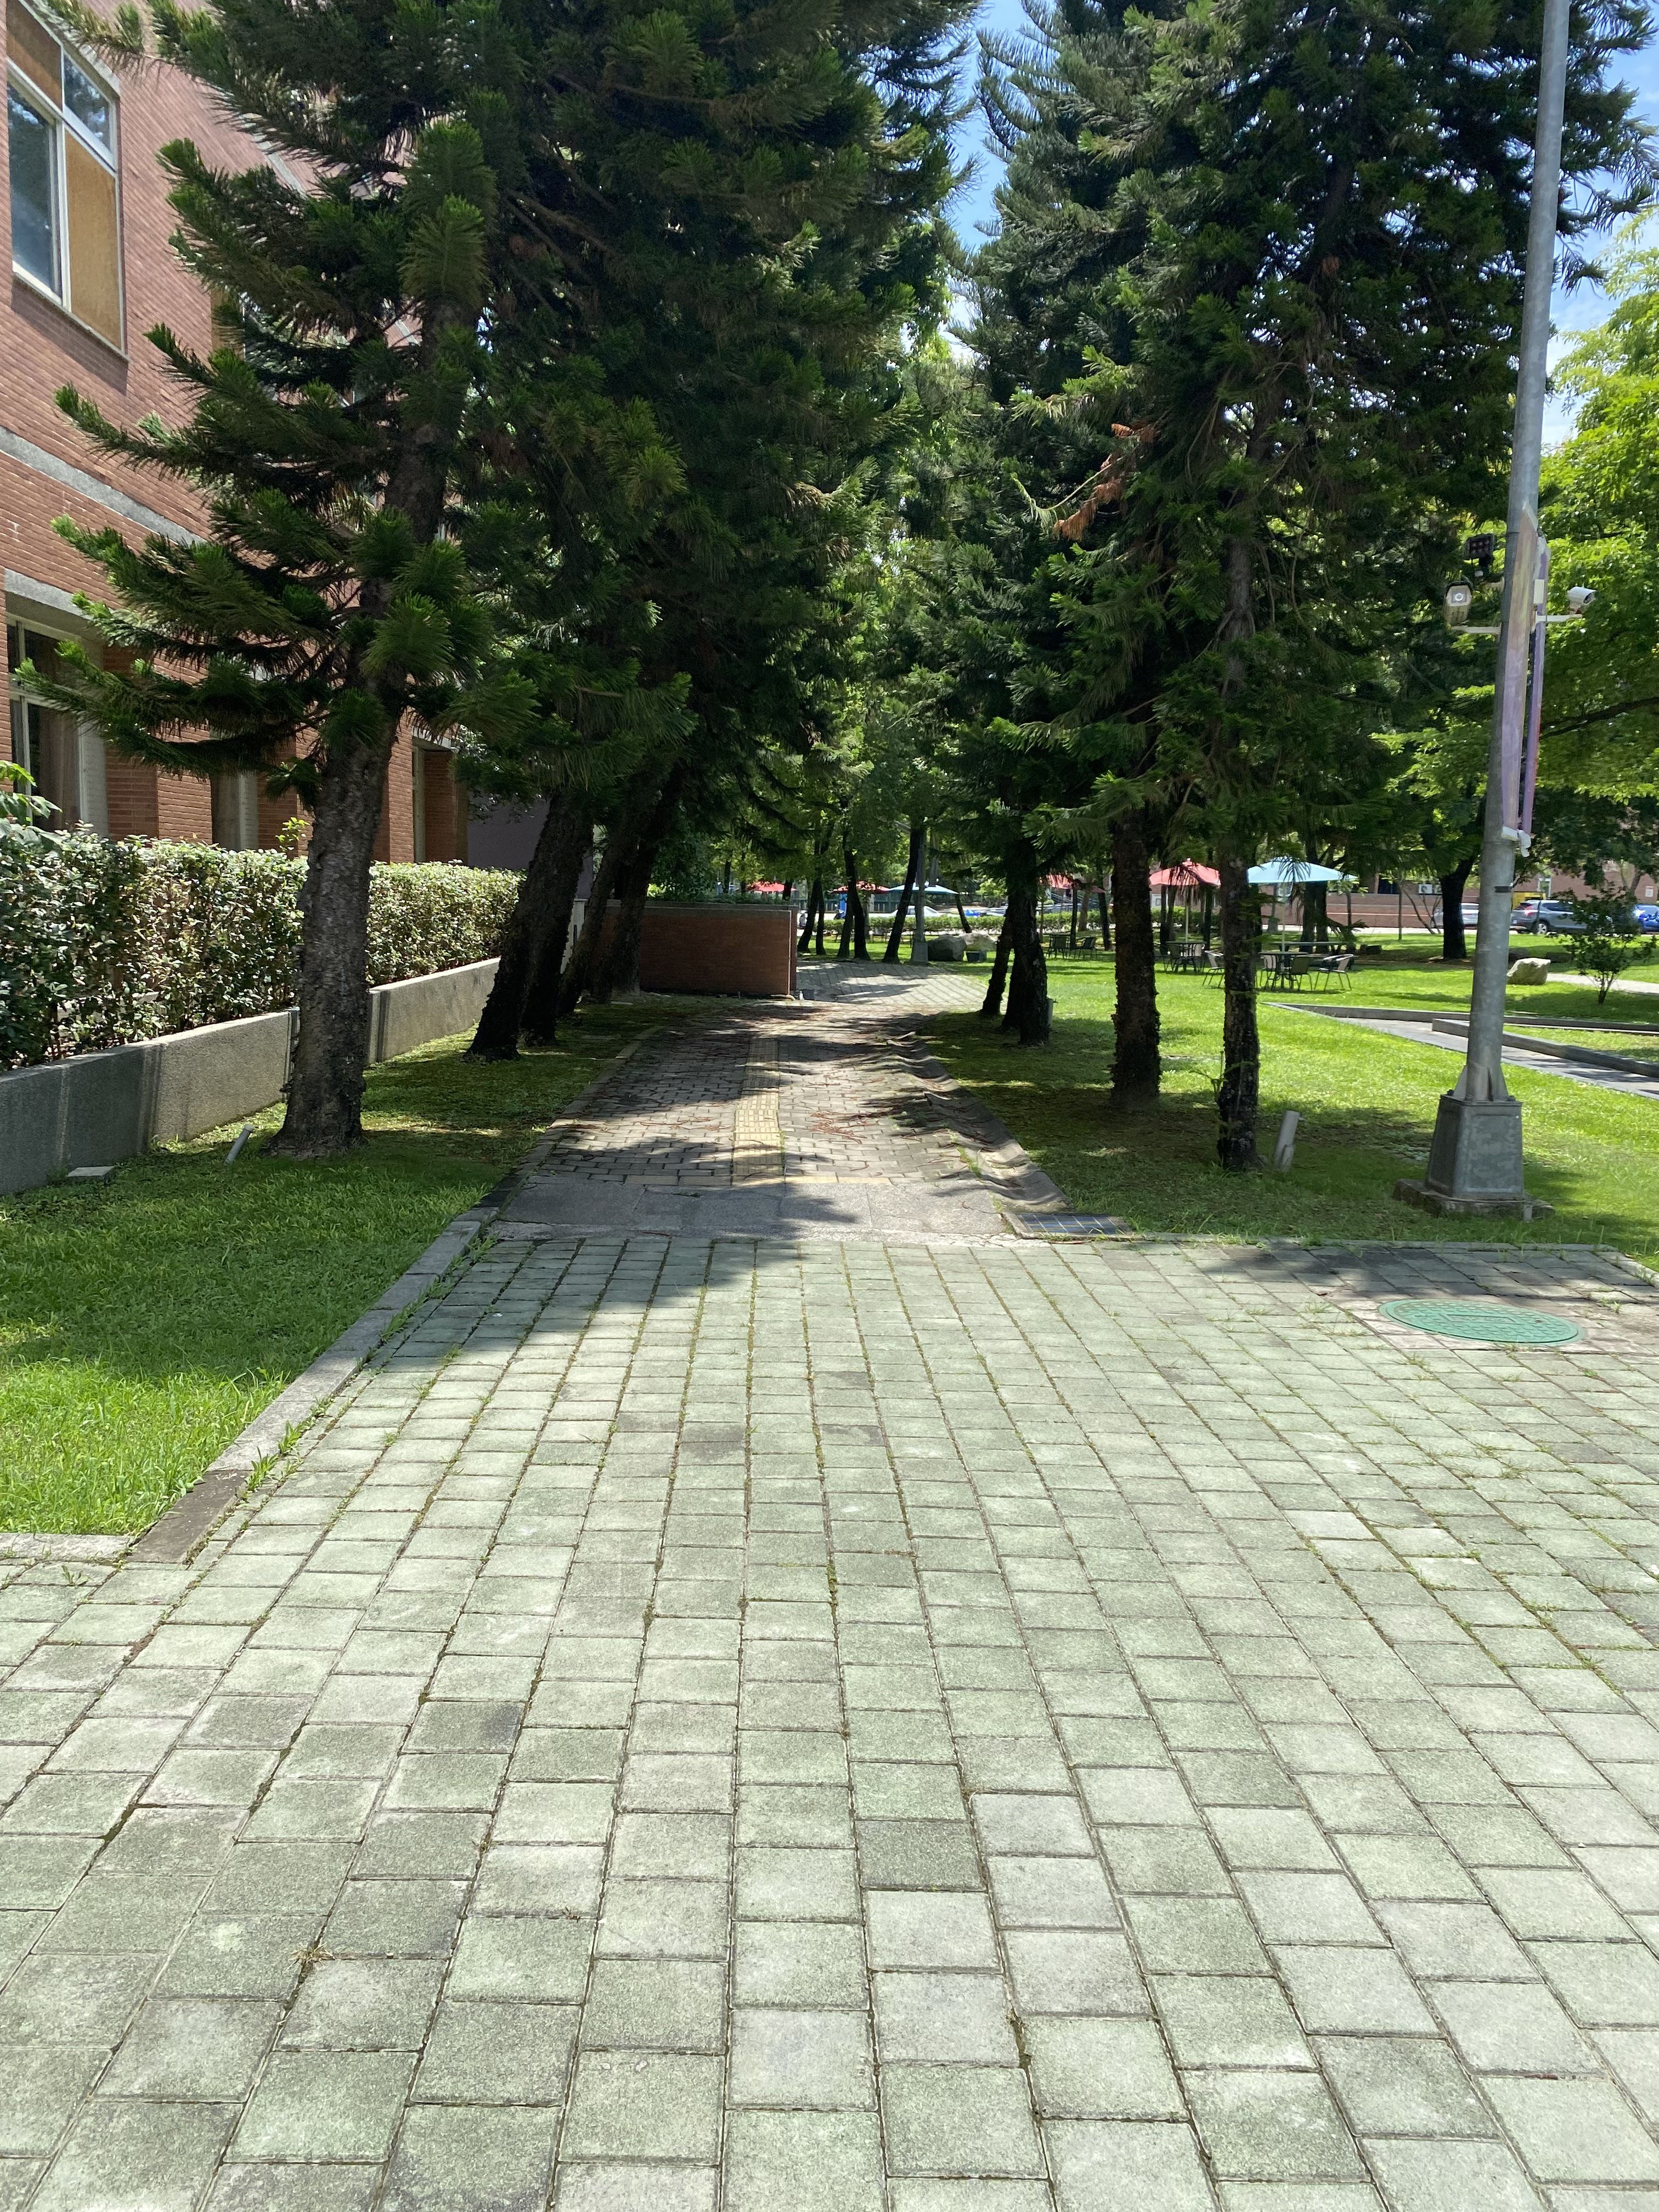0: (0, 1141, 1659, 2212)
sidewalk: (444, 953, 1080, 1338)
